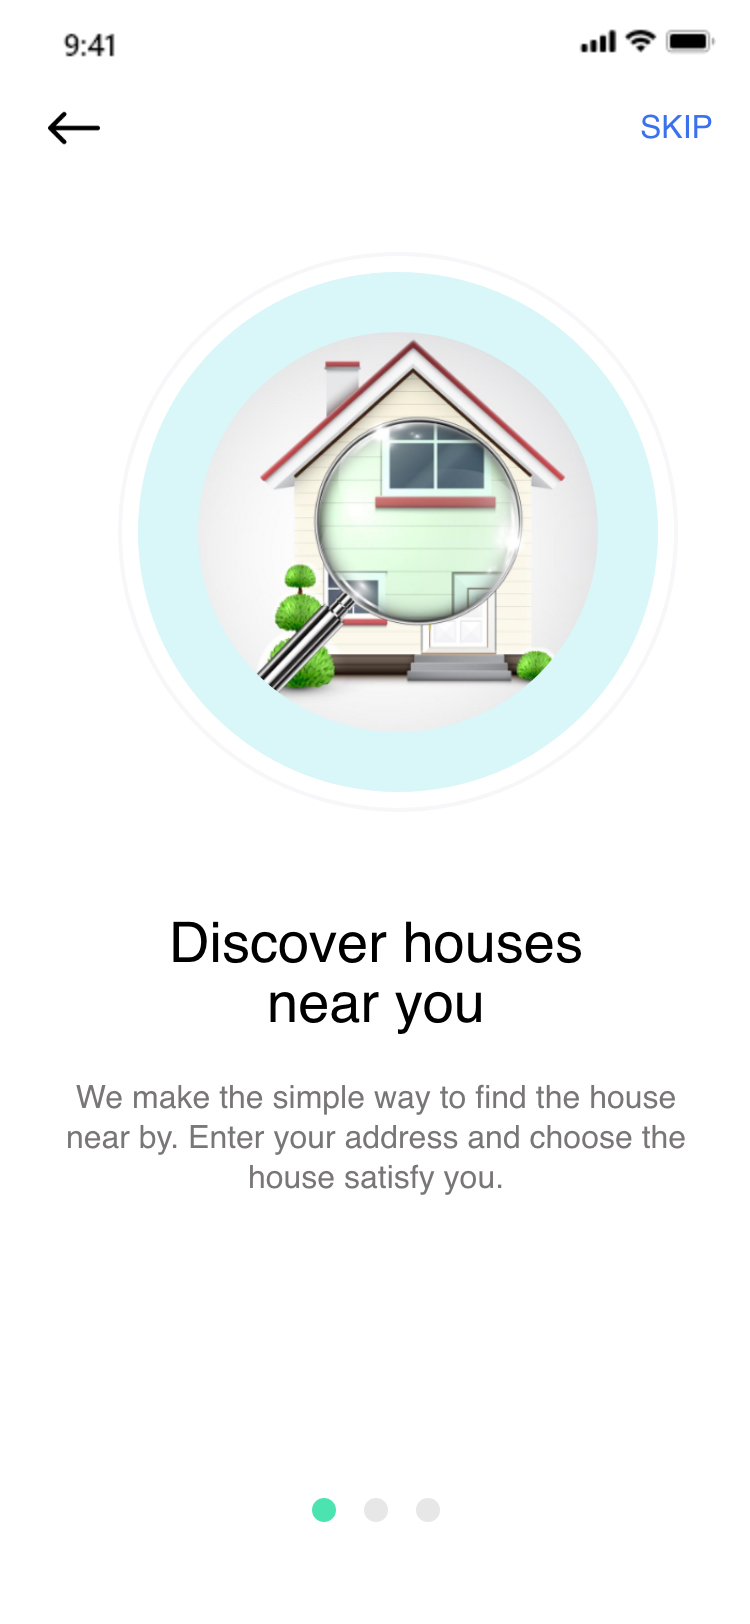Icon: (48, 112, 100, 146)
Image: (117, 251, 680, 814)
PageIndicator: (311, 1497, 442, 1523)
Text: (68, 1084, 686, 1197), (173, 920, 582, 1036), (641, 114, 712, 141)
UpperTaskBar: (64, 27, 717, 59)
